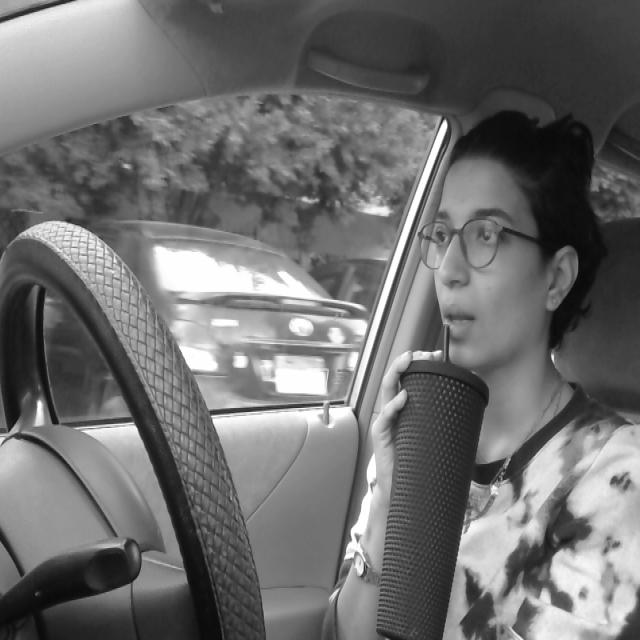drinking: (374, 323, 486, 640)
